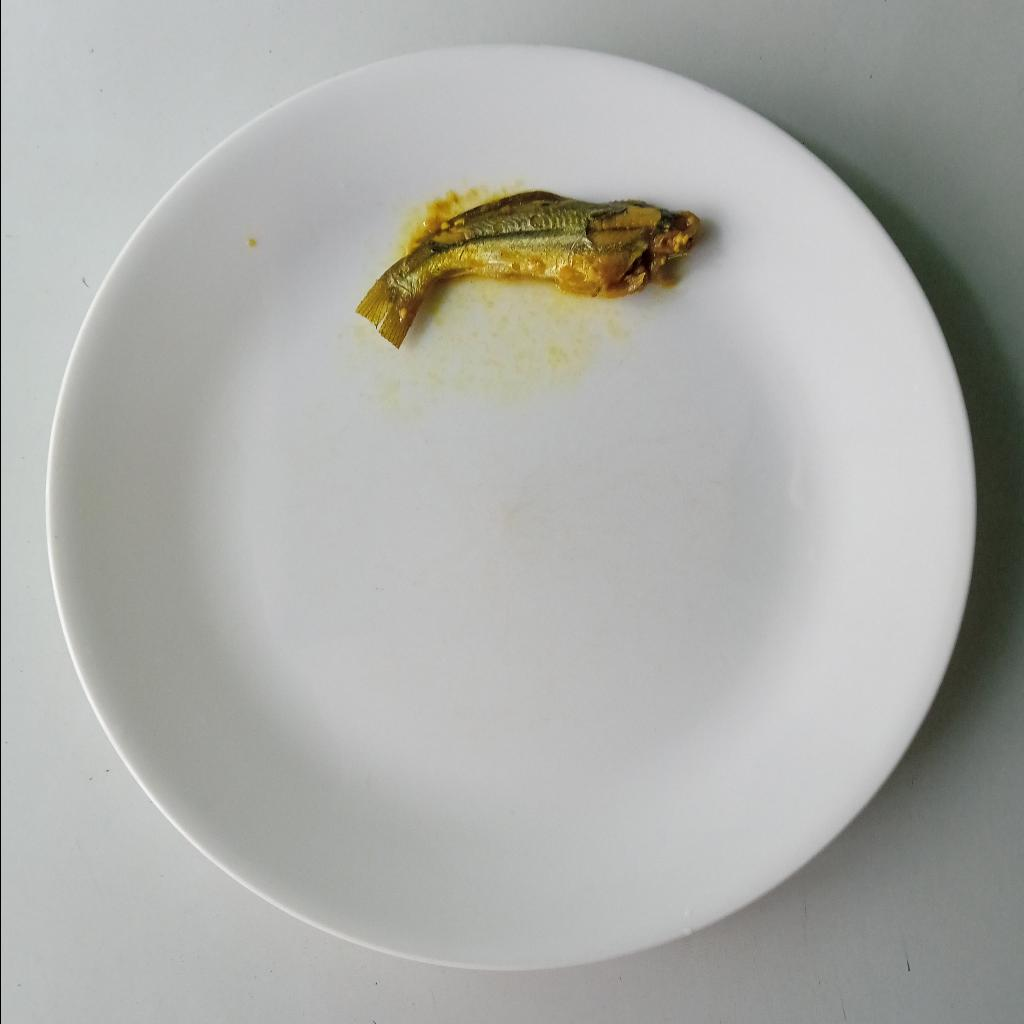fish: (352, 186, 689, 346)
